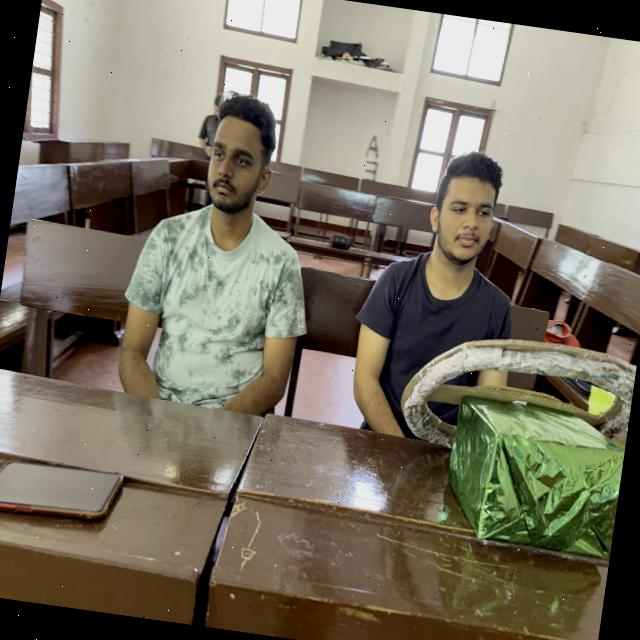no-seatbelt: (110, 180, 318, 450), (333, 249, 538, 496)
